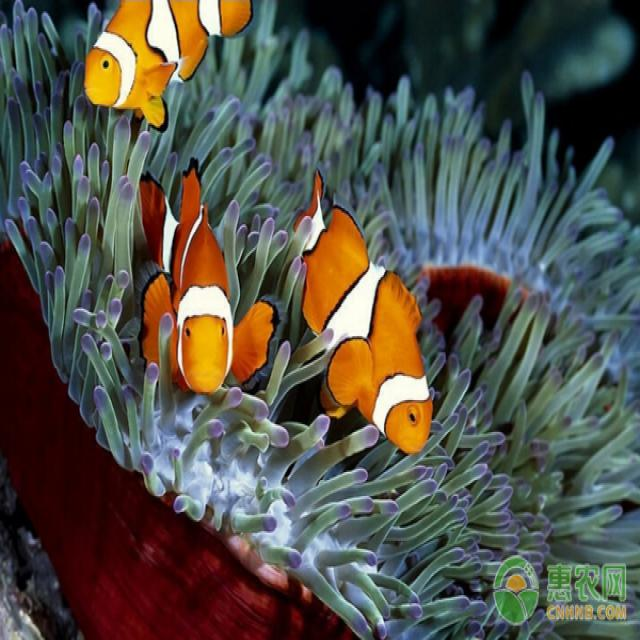ClownFish: (293, 170, 433, 458), (136, 159, 278, 401), (84, 0, 263, 128)
